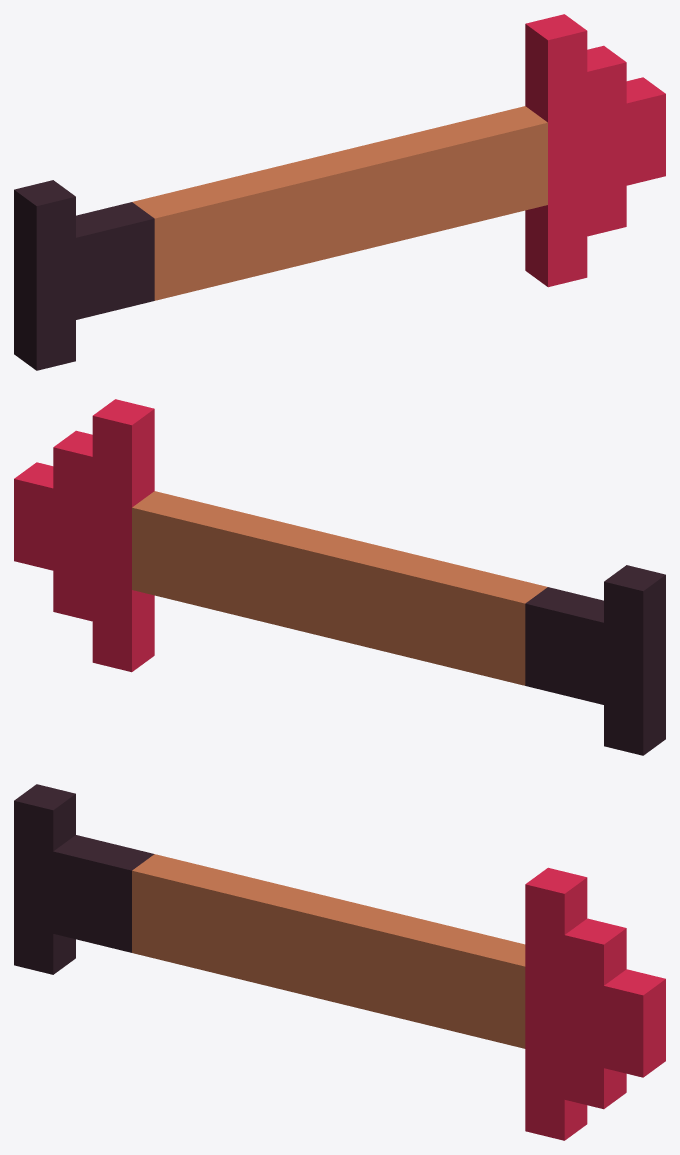
File: Arrow.fbx
The picture shows the model from 3 angles, top to bottom: view 1: azimuth 30°, elevation 25°; view 2: azimuth 150°, elevation 25°; view 3: azimuth 330°, elevation 25°; orthographic projection.
Visible parts, largest first — view 1: generated; view 2: generated; view 3: generated.
Boxes of the visible parts, <box> form: generated: <box>14,14,665,370</box>; generated: <box>14,399,665,755</box>; generated: <box>14,784,665,1140</box>.
Size of the model in its own units: 160 by 60 by 10.
